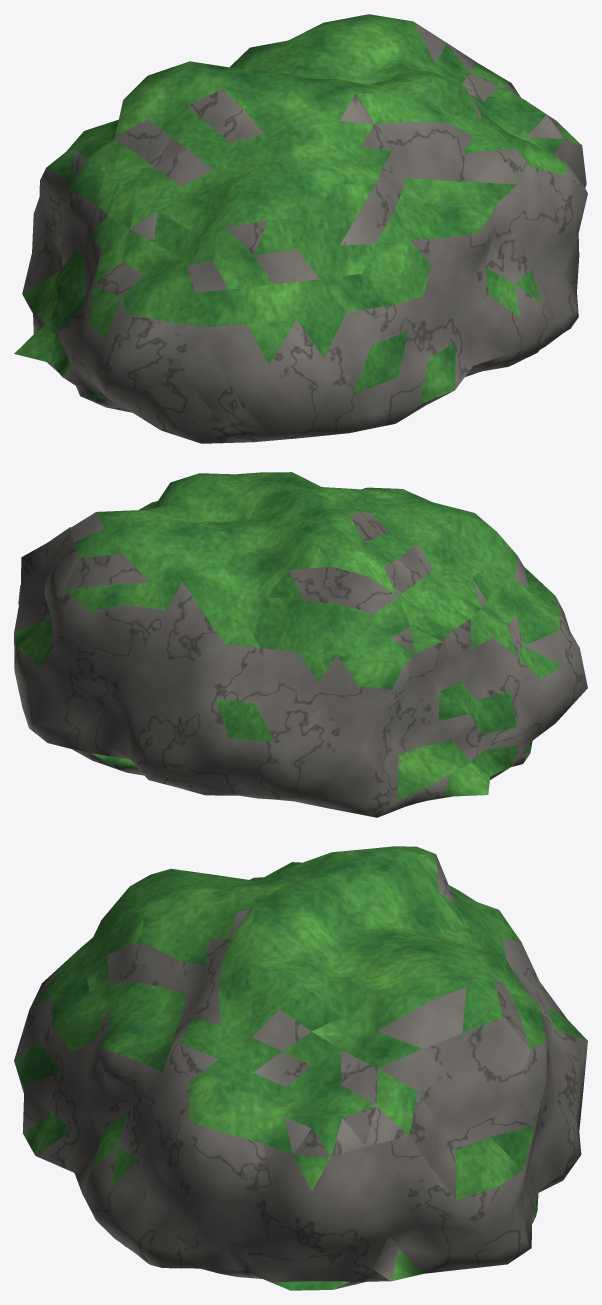
Rendered from roccia_a.glb.
3 renders of one model, top to bottom at view 1: azimuth 30°, elevation 25°; view 2: azimuth 150°, elevation 25°; view 3: azimuth 270°, elevation 25°, orthographic. The views are drawn at different scales.
Visible parts, largest first — view 1: roccia; view 2: roccia; view 3: roccia.
Boxes of the visible parts, x1=… form: roccia: x1=14, y1=14, x2=587, y2=443; roccia: x1=14, y1=472, x2=587, y2=817; roccia: x1=14, y1=846, x2=587, y2=1290.
Bounding box in the file's own units: 2.82 × 1.32 × 2.32.
2 materials, 2 textured.
